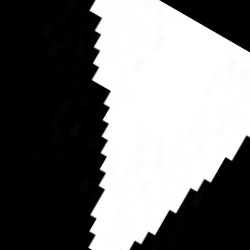spot: (89, 1, 248, 248)
